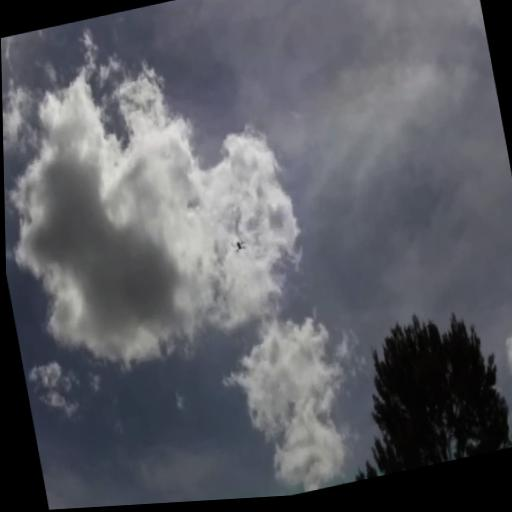drones: (226, 234, 253, 260)
